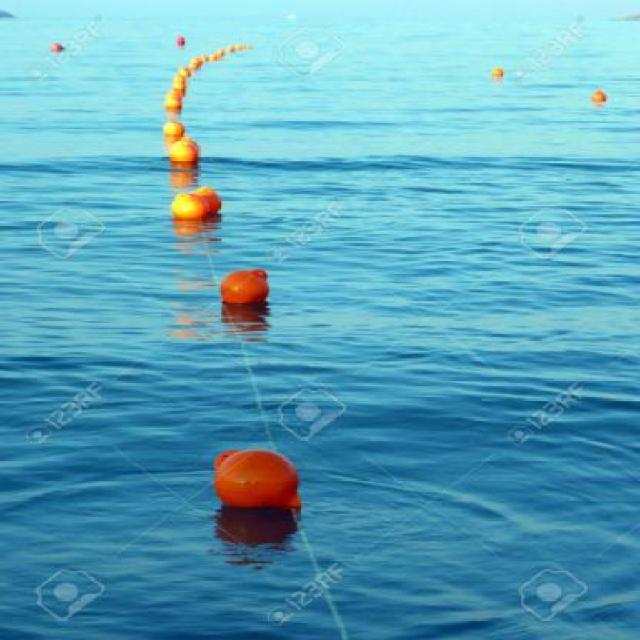a: (195, 441, 324, 519), (206, 258, 299, 306), (159, 183, 240, 226), (165, 133, 222, 172), (153, 112, 199, 141), (487, 65, 518, 91), (590, 85, 617, 112)
